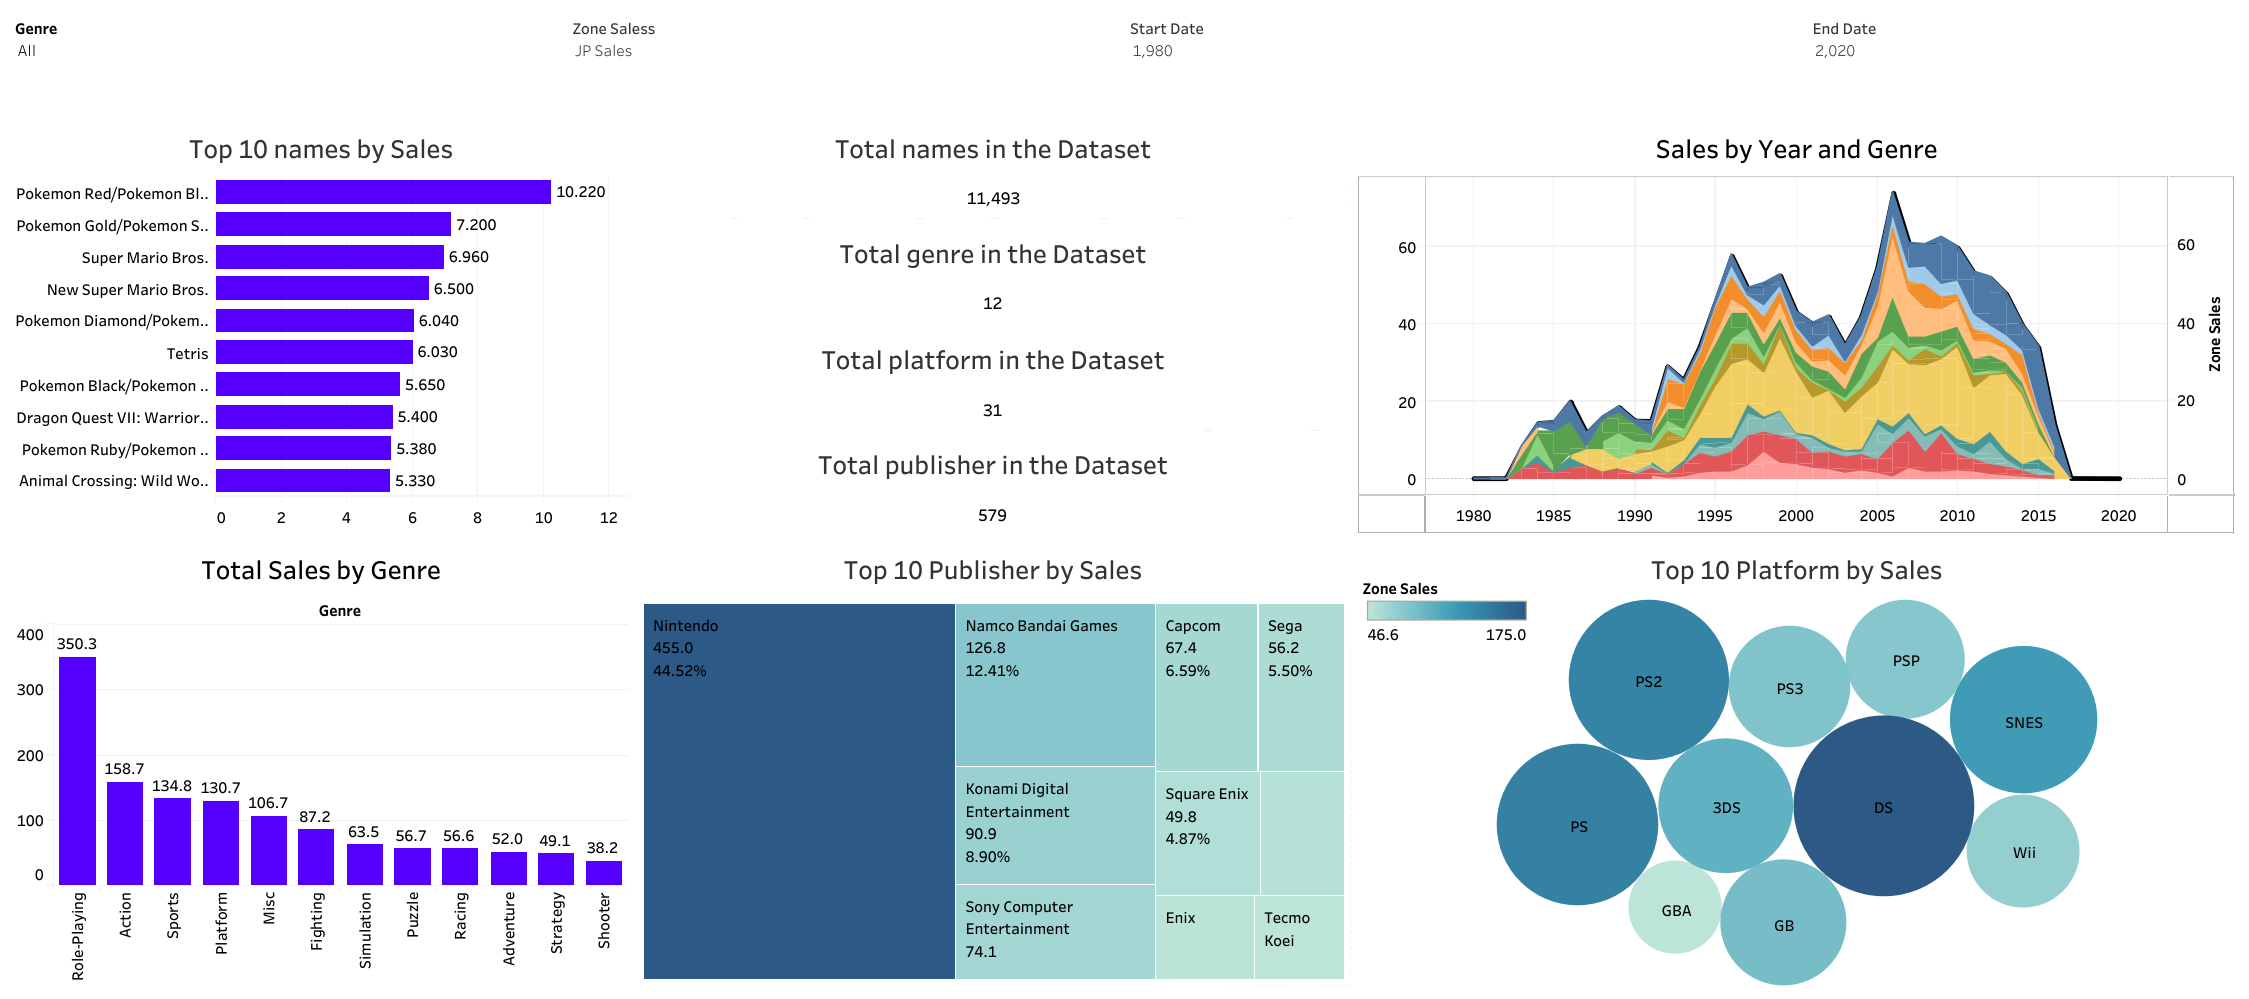

This screenshot's page, from the dashboard's own definition file:
{"tool":"tableau","page":{"name":"Dashboard 1","canvas":[1800,800],"ordinal":0},"visuals":[{"type":"filter","title":"Sales by Year","param":"[federated.162qx2e1s0a8o119oi3os0y6scm3].[none:Genre:nk]","box":[8,8,446,86]},{"type":"parameter","param":"[Parameters].[Parameter 1]","box":[454,8,446,86]},{"type":"parameter","param":"[Parameters].[Parameter 2]","box":[900,8,546,86]},{"type":"parameter","param":"[Parameters].[Parameter 3]","box":[1446,8,346,86]},{"type":"worksheet","title":"Top 10 names by sales","mark":"Automatic","rows":["Name"],"cols":["Calculation_322851818527596544"],"box":[8,94,498,337]},{"type":"worksheet","title":"total name","mark":"Automatic","box":[506,94,577,84.3]},{"type":"worksheet","title":"Sales by Year","mark":"Automatic","rows":["Calculation_322851818527596544","Calculation_322851818527596544"],"cols":["Year"],"box":[1083,94,709,337]},{"type":"worksheet","title":"total genre","mark":"Automatic","box":[506,178.3,577,84.2]},{"type":"worksheet","title":"total platform","mark":"Automatic","box":[506,262.5,577,84.2]},{"type":"worksheet","title":"total  publisher","mark":"Automatic","box":[506,346.8,577,84.2]},{"type":"worksheet","title":"total sales by genre","mark":"Bar","rows":["Calculation_322851818527596544"],"cols":["Genre"],"box":[8,431,498,361]},{"type":"worksheet","title":"Top 10 publisher by sales ","mark":"Automatic","box":[506,431,577,361]},{"type":"worksheet","title":"Top 10 platforms by sales","mark":"Circle","box":[1083,431,709,361]},{"type":"legend","title":"Top 10 platforms by sales","param":"[federated.162qx2e1s0a8o119oi3os0y6scm3].[sum:Calculation_322851818527596544:qk]","box":[1090,457,136,63]}]}

Visuals, with their boxes in screenshot pixels (x1, y1, x2, y2), scaled from the page's 1800x800 canvas onto the 2249x999 screenshot:
"Sales by Year" filter: [x1=10, y1=10, x2=567, y2=117]
parameter: [x1=567, y1=10, x2=1124, y2=117]
parameter: [x1=1124, y1=10, x2=1807, y2=117]
parameter: [x1=1807, y1=10, x2=2239, y2=117]
"Top 10 names by sales" worksheet: [x1=10, y1=117, x2=632, y2=538]
"total name" worksheet: [x1=632, y1=117, x2=1353, y2=223]
"Sales by Year" worksheet: [x1=1353, y1=117, x2=2239, y2=538]
"total genre" worksheet: [x1=632, y1=223, x2=1353, y2=328]
"total platform" worksheet: [x1=632, y1=328, x2=1353, y2=433]
"total  publisher" worksheet: [x1=632, y1=433, x2=1353, y2=538]
"total sales by genre" worksheet (Bar marks): [x1=10, y1=538, x2=632, y2=989]
"Top 10 publisher by sales " worksheet: [x1=632, y1=538, x2=1353, y2=989]
"Top 10 platforms by sales" worksheet (Circle marks): [x1=1353, y1=538, x2=2239, y2=989]
"Top 10 platforms by sales" legend: [x1=1362, y1=571, x2=1532, y2=649]
